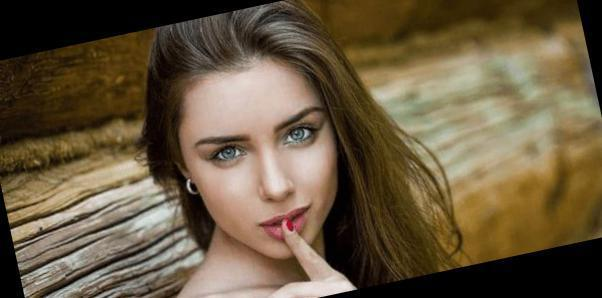Sober: (180, 78, 331, 238)
